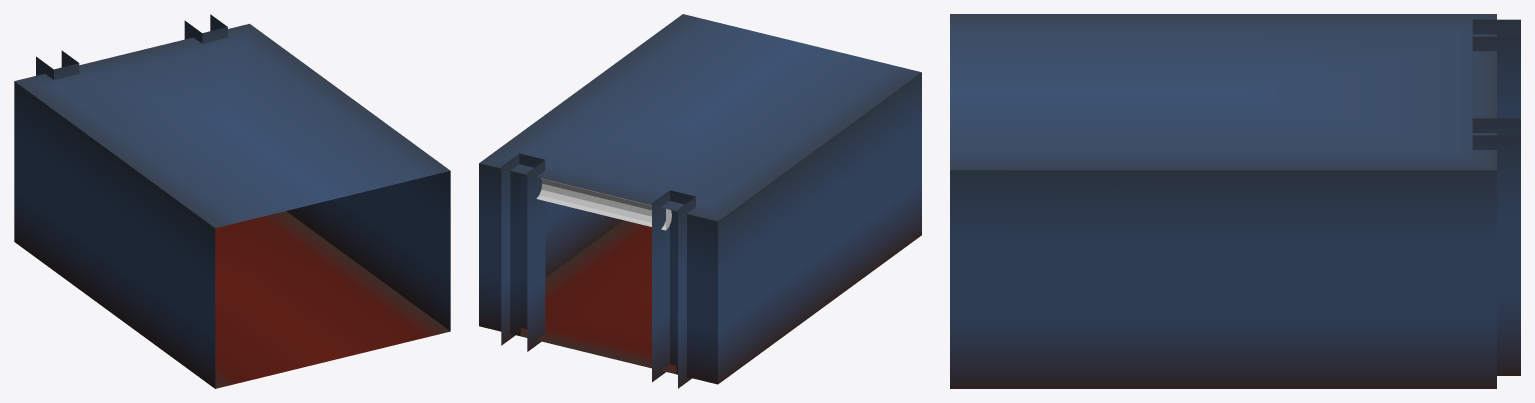
Rendered from H&J - Scenario.fbx.
3 views of the same model, side by side, from view 1: azimuth 30°, elevation 25°; view 2: azimuth 150°, elevation 25°; view 3: azimuth 270°, elevation 25° (orthographic). The views are drawn at different scales.
Parts seen in each view (by area): view 1: H&J_Scenario; view 2: H&J_Scenario; view 3: H&J_Scenario.
Part boxes in pixels (left/top/right/bottom): H&J_Scenario: left=14, top=14, right=450, bottom=388; H&J_Scenario: left=479, top=14, right=921, bottom=388; H&J_Scenario: left=950, top=14, right=1520, bottom=388.
Size of the model in its own units: 460 by 330 by 710.
